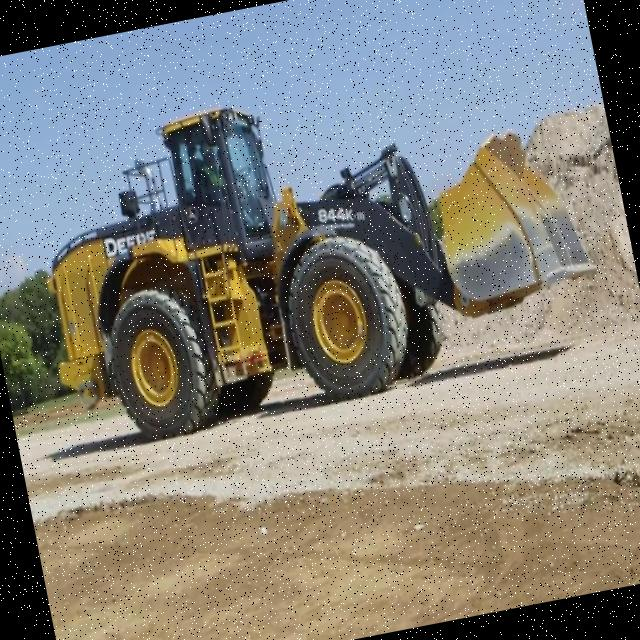Loader: (0, 59, 516, 458)
